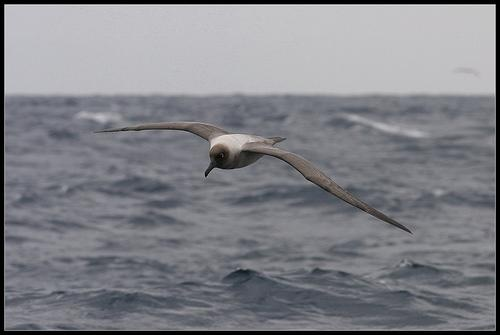bird: (92, 120, 413, 235)
